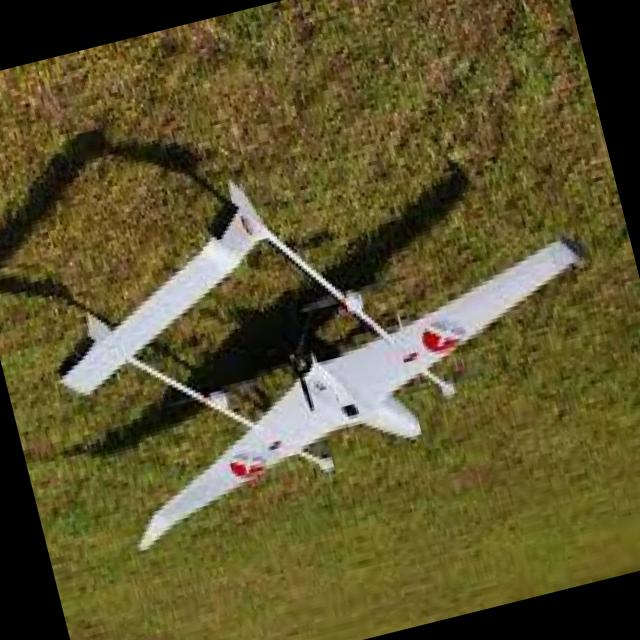UAV: (39, 120, 572, 592)
